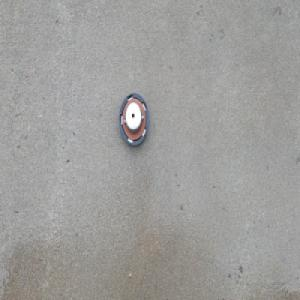FuelCap: (118, 91, 149, 147)
